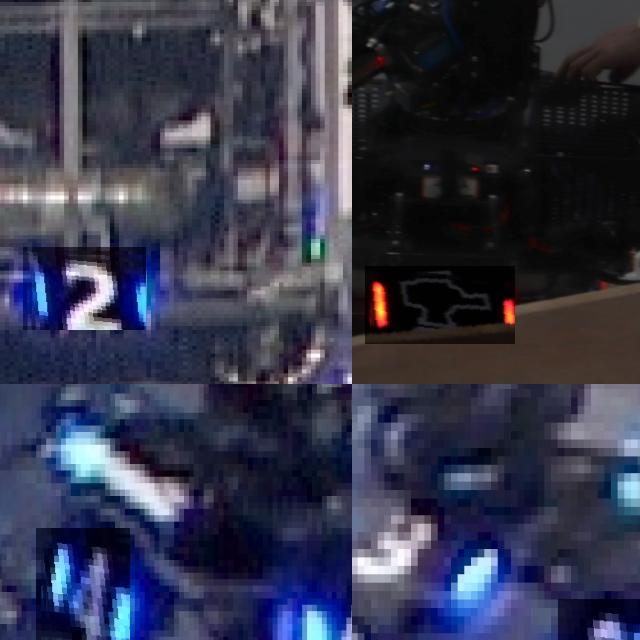B2: (23, 247, 146, 330)
B3: (557, 599, 640, 640)
B4: (36, 528, 129, 640), (292, 566, 352, 640)
Rs: (365, 266, 515, 344)
